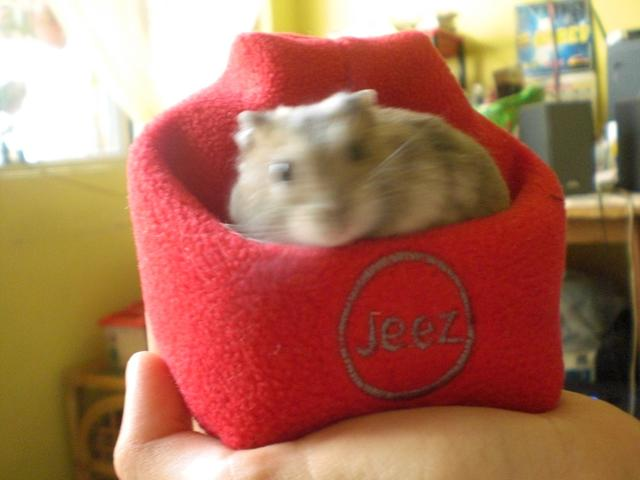mouse: (211, 85, 531, 289)
